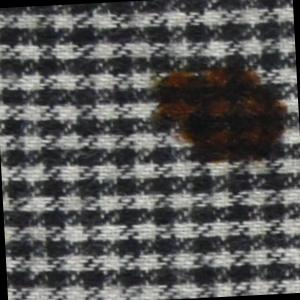Oil Stain: (142, 54, 293, 173)
